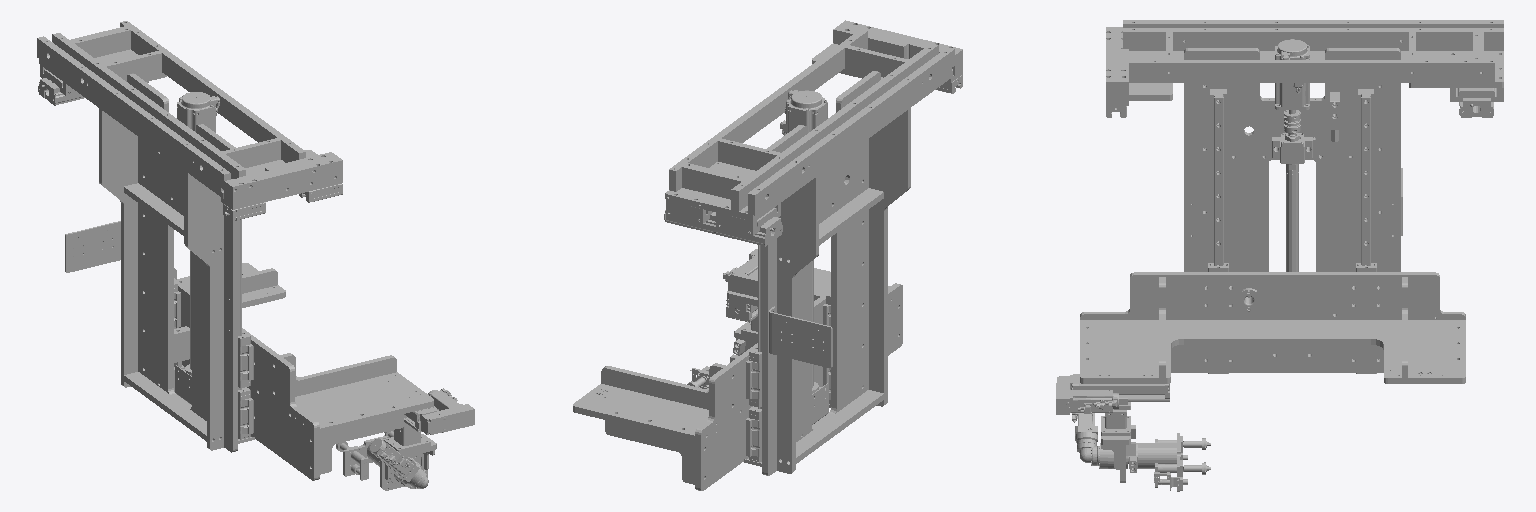
The robot description file, URDF, robot "m_2025643_001":
<?xml version="1.0" ?>
<!-- =================================================================================== -->
<!-- |    This document was autogenerated by xacro from [local-path]/projects/denso/ros2_ws/src/component_models/codenser/m_2025643_001/m_2025643_001_description/urdf/m_2025643_001.urdf.xacro | -->
<!-- |    EDITING THIS FILE BY HAND IS NOT RECOMMENDED                                 | -->
<!-- =================================================================================== -->
<!-- This URDF was automatically created by SolidWorks to URDF Exporter! Originally created by [author] ([email redacted]) 
     Commit Version: 1.6.1-12-ge40d886  Build Version: 1.6.8301.19567
     For more information, please see http://wiki.ros.org/sw_urdf_exporter -->
<robot name="m_2025643_001">
  <link name="m_2025643_001_base_link">
    <inertial>
      <origin rpy="0 0 0" xyz="0.58983 0.63355 0.96408"/>
      <mass value="56.671"/>
      <inertia ixx="5.0862" ixy="0.096549" ixz="0.011489" iyy="11.551" iyz="0.00029138" izz="15.131"/>
    </inertial>
    <visual>
      <origin rpy="0 0 0" xyz="0 0 0"/>
      <geometry>
        <mesh filename="package://m_2025643_001_description/meshes/base_link.STL"/>
      </geometry>
      <material name="">
        <color rgba="0.75294 0.75294 0.75294 1"/>
      </material>
    </visual>
    <collision>
      <origin rpy="0 0 0" xyz="0 0 0"/>
      <geometry>
        <mesh filename="package://m_2025643_001_description/meshes/base_link.STL"/>
      </geometry>
    </collision>
  </link>
  <link name="m_2025643_001_link_1">
    <inertial>
      <origin rpy="0 0 0" xyz="0.11461 -0.023751 -0.20534"/>
      <mass value="17.887"/>
      <inertia ixx="0.85265" ixy="0.0020243" ixz="0.0034461" iyy="0.42068" iyz="-0.00010302" izz="0.47399"/>
    </inertial>
    <visual>
      <origin rpy="0 0 0" xyz="0 0 0"/>
      <geometry>
        <mesh filename="package://m_2025643_001_description/meshes/link_1.STL"/>
      </geometry>
      <material name="">
        <color rgba="0.75294 0.75294 0.75294 1"/>
      </material>
    </visual>
    <collision>
      <origin rpy="0 0 0" xyz="0 0 0"/>
      <geometry>
        <mesh filename="package://m_2025643_001_description/meshes/link_1.STL"/>
      </geometry>
    </collision>
  </link>
  <joint name="m_2025643_001_joint_1" type="prismatic">
    <origin rpy="0 0 0" xyz="-0.37671 0.676 1.2315"/>
    <parent link="m_2025643_001_base_link"/>
    <child link="m_2025643_001_link_1"/>
    <axis xyz="1 0 0"/>
    <limit effort="0.1" lower="0" upper="1.5" velocity="0.1"/>
  </joint>
  <link name="m_2025643_001_link_2">
    <inertial>
      <origin rpy="0 0 0" xyz="0.070659 -0.031425 0.0021627"/>
      <mass value="8.1181"/>
      <inertia ixx="0.43894" ixy="0.0013519" ixz="0.00017093" iyy="0.045982" iyz="-0.0024625" izz="0.45094"/>
    </inertial>
    <visual>
      <origin rpy="0 0 0" xyz="0 0 0"/>
      <geometry>
        <mesh filename="package://m_2025643_001_description/meshes/link_2.STL"/>
      </geometry>
      <material name="">
        <color rgba="0.75294 0.75294 0.75294 1"/>
      </material>
    </visual>
    <collision>
      <origin rpy="0 0 0" xyz="0 0 0"/>
      <geometry>
        <mesh filename="package://m_2025643_001_description/meshes/link_2.STL"/>
      </geometry>
    </collision>
  </link>
  <joint name="m_2025643_001_joint_2" type="prismatic">
    <origin rpy="0 0 0" xyz="0.20285 -0.084066 -0.62709"/>
    <parent link="m_2025643_001_link_1"/>
    <child link="m_2025643_001_link_2"/>
    <axis xyz="0 0 1"/>
    <limit effort="0.1" lower="0" upper="0.5" velocity="0.1"/>
  </joint>
  <link name="m_2025643_001_gripper_left_link">
    <inertial>
      <origin rpy="0 0 0" xyz="-0.016946 -0.019226 -0.088431"/>
      <mass value="1.0465"/>
      <inertia ixx="0.0009527" ixy="-0.00010594" ixz="0.00013512" iyy="0.0010535" iyz="0.00011099" izz="0.001289"/>
    </inertial>
    <visual>
      <origin rpy="0 0 0" xyz="0 0 0"/>
      <geometry>
        <mesh filename="package://m_2025643_001_description/meshes/gripper_left_link.STL"/>
      </geometry>
      <material name="">
        <color rgba="0.75294 0.75294 0.75294 1"/>
      </material>
    </visual>
    <collision>
      <origin rpy="0 0 0" xyz="0 0 0"/>
      <geometry>
        <mesh filename="package://m_2025643_001_description/meshes/gripper_left_link.STL"/>
      </geometry>
    </collision>
  </link>
  <joint name="m_2025643_001_gripper_left_joint" type="prismatic">
    <origin rpy="0 0 0" xyz="0.286 -0.37124 -0.046329"/>
    <parent link="m_2025643_001_link_2"/>
    <child link="m_2025643_001_gripper_left_link"/>
    <axis xyz="0 1 0"/>
    <limit effort="0.1" lower="0" upper="0.1" velocity="0.1"/>
  </joint>
  <link name="m_2025643_001_finger_left_link">
    <inertial>
      <origin rpy="0 0 0" xyz="0.0044985 0.062888 -0.006434"/>
      <mass value="0.38585"/>
      <inertia ixx="0.00020691" ixy="2.0797E-07" ixz="-4.5948E-07" iyy="0.00034559" iyz="-3.5191E-07" izz="0.00038383"/>
    </inertial>
    <visual>
      <origin rpy="0 0 0" xyz="0 0 0"/>
      <geometry>
        <mesh filename="package://m_2025643_001_description/meshes/finger_left_link.STL"/>
      </geometry>
      <material name="">
        <color rgba="0.75294 0.75294 0.75294 1"/>
      </material>
    </visual>
    <collision>
      <origin rpy="0 0 0" xyz="0 0 0"/>
      <geometry>
        <mesh filename="package://m_2025643_001_description/meshes/finger_left_link.STL"/>
      </geometry>
    </collision>
  </link>
  <joint name="m_2025643_001_finger_left_joint" type="revolute">
    <origin rpy="0 0 0" xyz="0 0.047 -0.148"/>
    <parent link="m_2025643_001_gripper_left_link"/>
    <child link="m_2025643_001_finger_left_link"/>
    <axis xyz="0 1 0"/>
    <limit effort="0.1" lower="-0.5" upper="0.5" velocity="0.1"/>
  </joint>
</robot>

--- Facts derived from the render (not from the file) ---
3 views of the same robot in one strip: view 1: azimuth 30°, elevation 25°; view 2: azimuth 150°, elevation 25°; view 3: azimuth 270°, elevation 25° (orthographic).
Robot: m_2025643_001 — 5 links, 4 joints (1 revolute, 3 prismatic); root link m_2025643_001_base_link; default pose: all joints at 0.
Links seen in each view (by area): view 1: m_2025643_001_link_1, m_2025643_001_link_2, m_2025643_001_gripper_left_link, m_2025643_001_finger_left_link; view 2: m_2025643_001_link_1, m_2025643_001_link_2, m_2025643_001_gripper_left_link; view 3: m_2025643_001_link_1, m_2025643_001_link_2, m_2025643_001_gripper_left_link, m_2025643_001_finger_left_link.
Boxes of the visible links, x1,y1,x2,y2 form: m_2025643_001_link_1: (37,21,342,452); m_2025643_001_link_2: (174,263,474,480); m_2025643_001_gripper_left_link: (370,415,436,490); m_2025643_001_finger_left_link: (336,430,393,480); m_2025643_001_link_1: (664,20,962,475); m_2025643_001_link_2: (573,249,902,490); m_2025643_001_gripper_left_link: (733,317,757,355); m_2025643_001_link_1: (1106,20,1503,297); m_2025643_001_link_2: (1056,263,1465,414); m_2025643_001_gripper_left_link: (1072,395,1135,482); m_2025643_001_finger_left_link: (1129,433,1210,491).
Bounding box of the posed robot: 0.6714 × 1.03 × 0.9359 m (x, y, z).
Meshes: 5 distinct files referenced, 4 mesh visuals loaded (4 binary STL); not drawn: 1 (reference not matched to a file when rendering).
